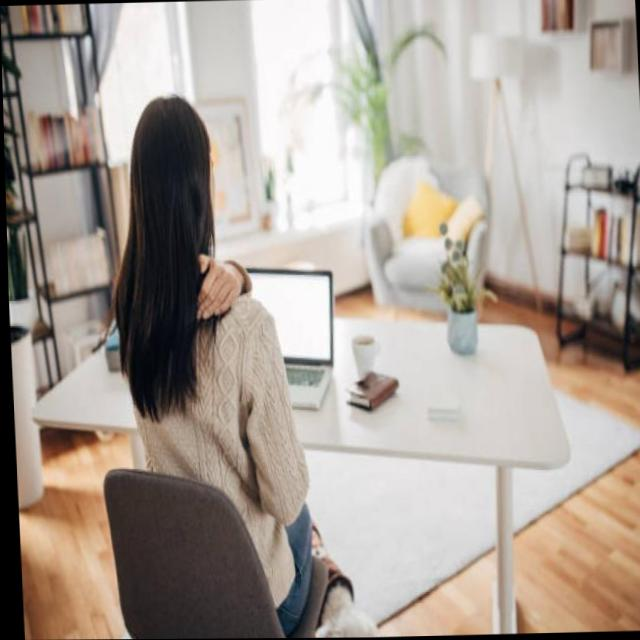no helmet: (130, 93, 212, 249)
